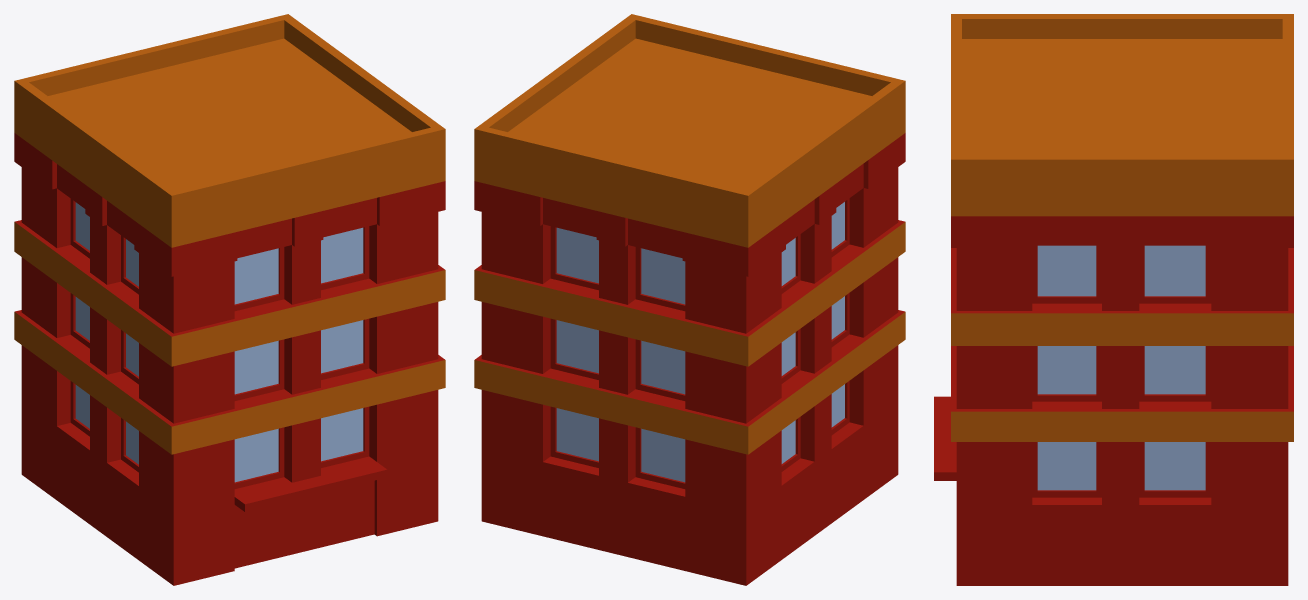
File: building2.FBX
The picture shows the model from 3 angles, left to right: view 1: azimuth 30°, elevation 25°; view 2: azimuth 150°, elevation 25°; view 3: azimuth 270°, elevation 25°; orthographic projection. The views are drawn at different scales.
Parts seen in each view (by area): view 1: Box003; view 2: Box003; view 3: Box003.
Part boxes in pixels (x1,y1,x2,y2): Box003: (14, 14, 445, 585); Box003: (474, 14, 905, 585); Box003: (934, 14, 1293, 585).
Size of the model in its own units: 36.92 by 50.63 by 38.5.
